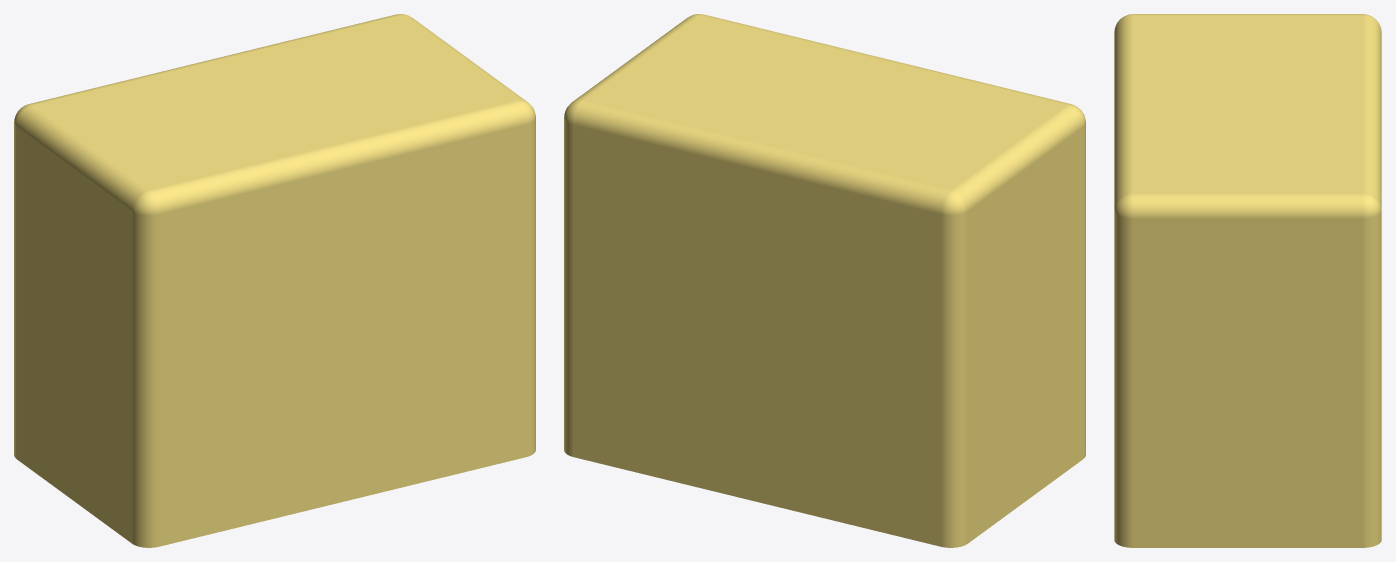
The model's file is midi_button_yellow.glb.
The picture shows the model from 3 angles, left to right: view 1: azimuth 30°, elevation 25°; view 2: azimuth 150°, elevation 25°; view 3: azimuth 270°, elevation 25°; orthographic projection.
Size of the model in its own units: 0.024 by 0.02 by 0.014.
